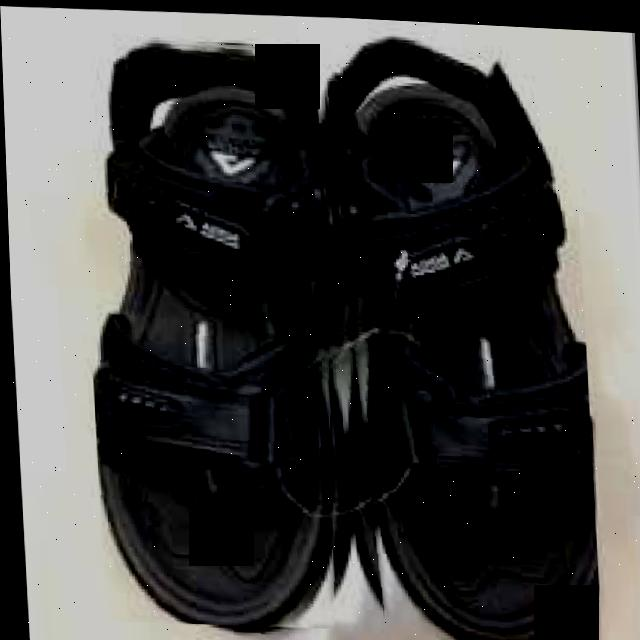shoe: (74, 24, 603, 640), (318, 29, 597, 640), (74, 32, 347, 629)
